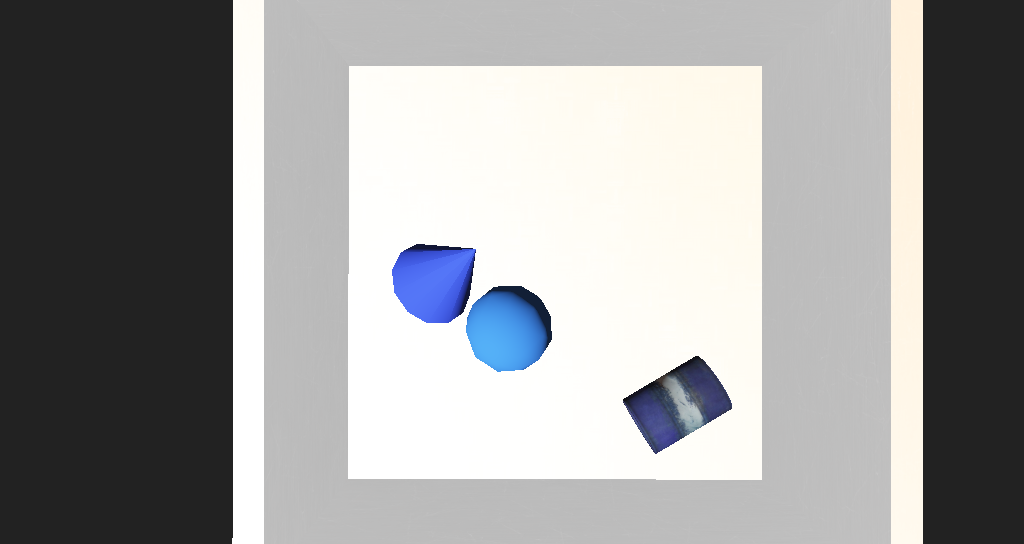cone: (552, 313, 633, 365)
cylinder: (364, 227, 485, 308)
sphere: (441, 272, 502, 320)
